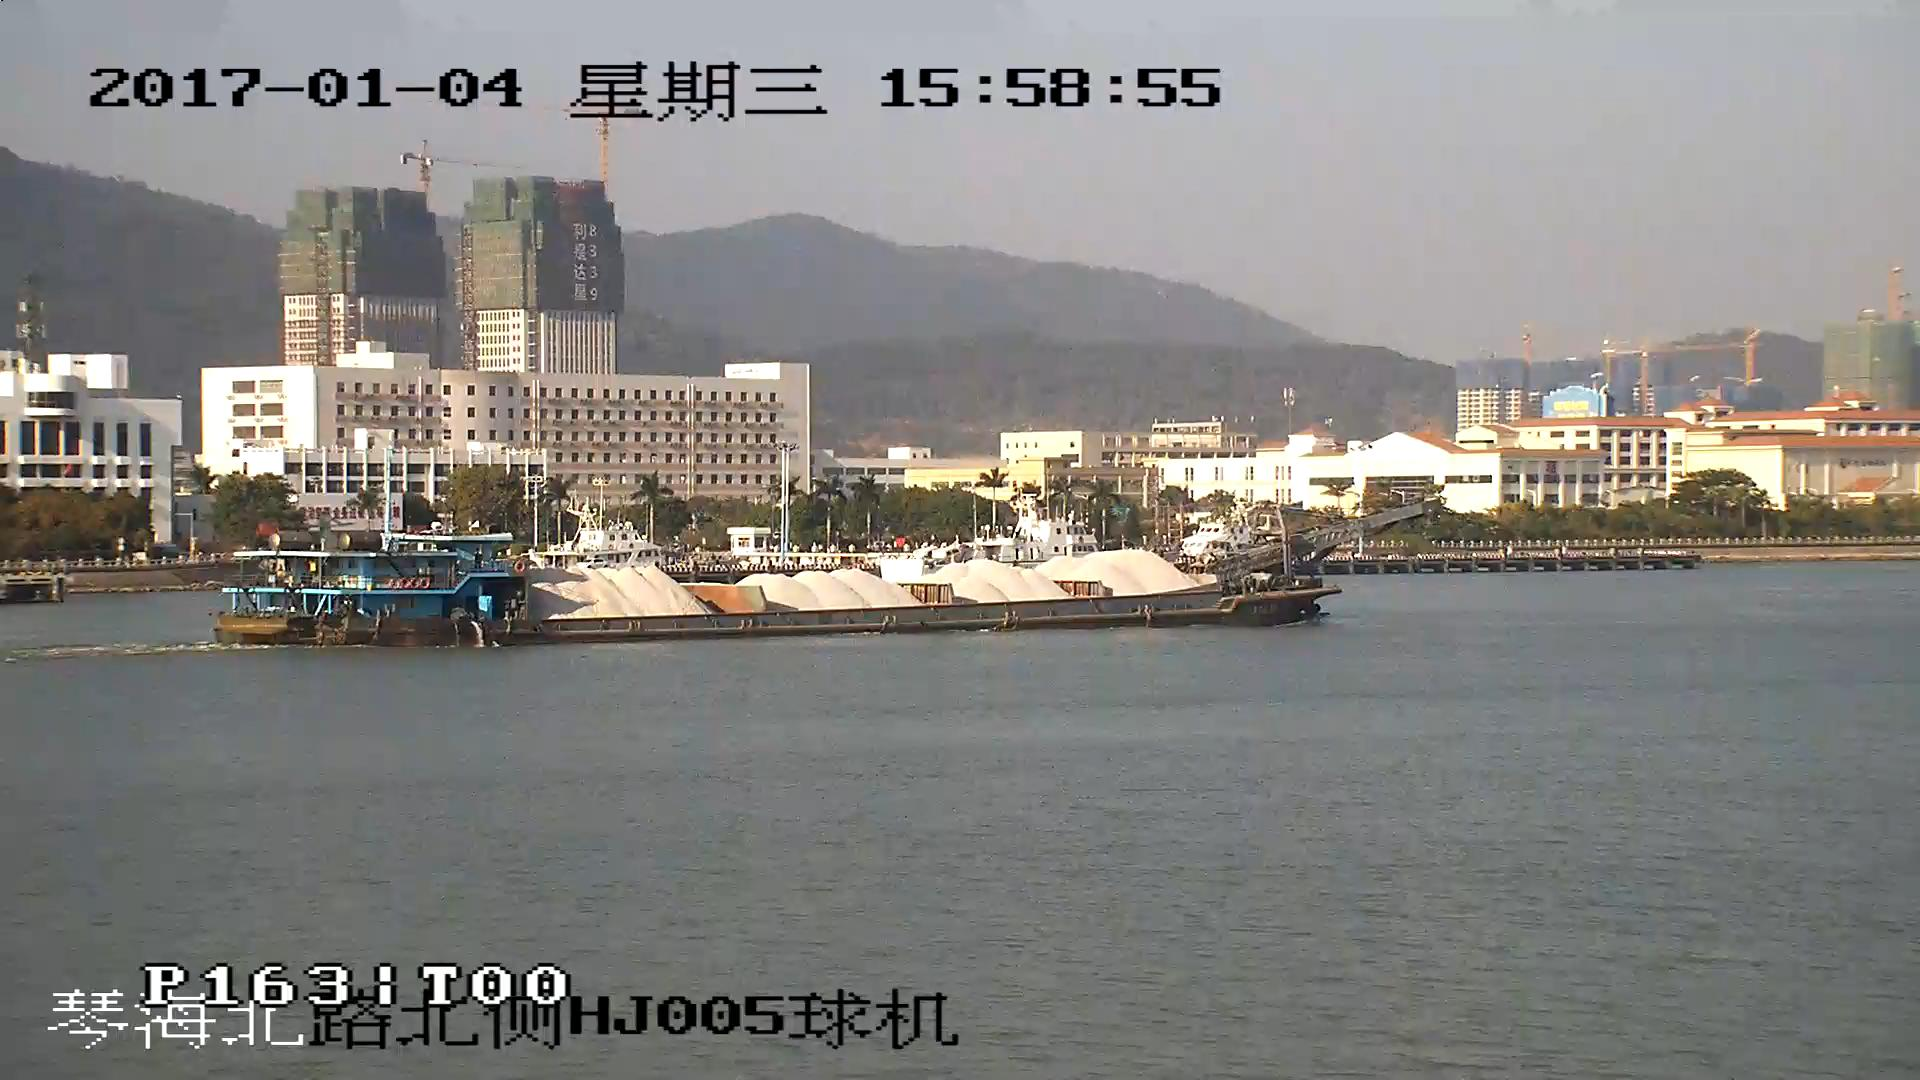ore carrier: (219, 499, 1435, 645)
